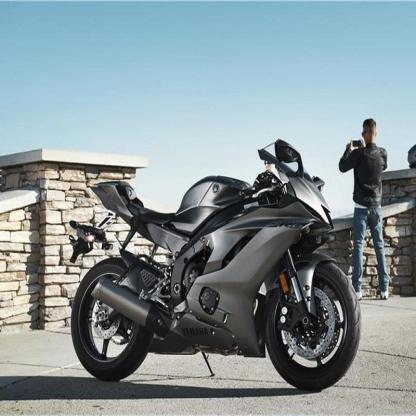Motorcycle: (71, 146, 365, 398)
